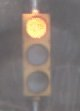Red: (14, 8, 56, 110)
